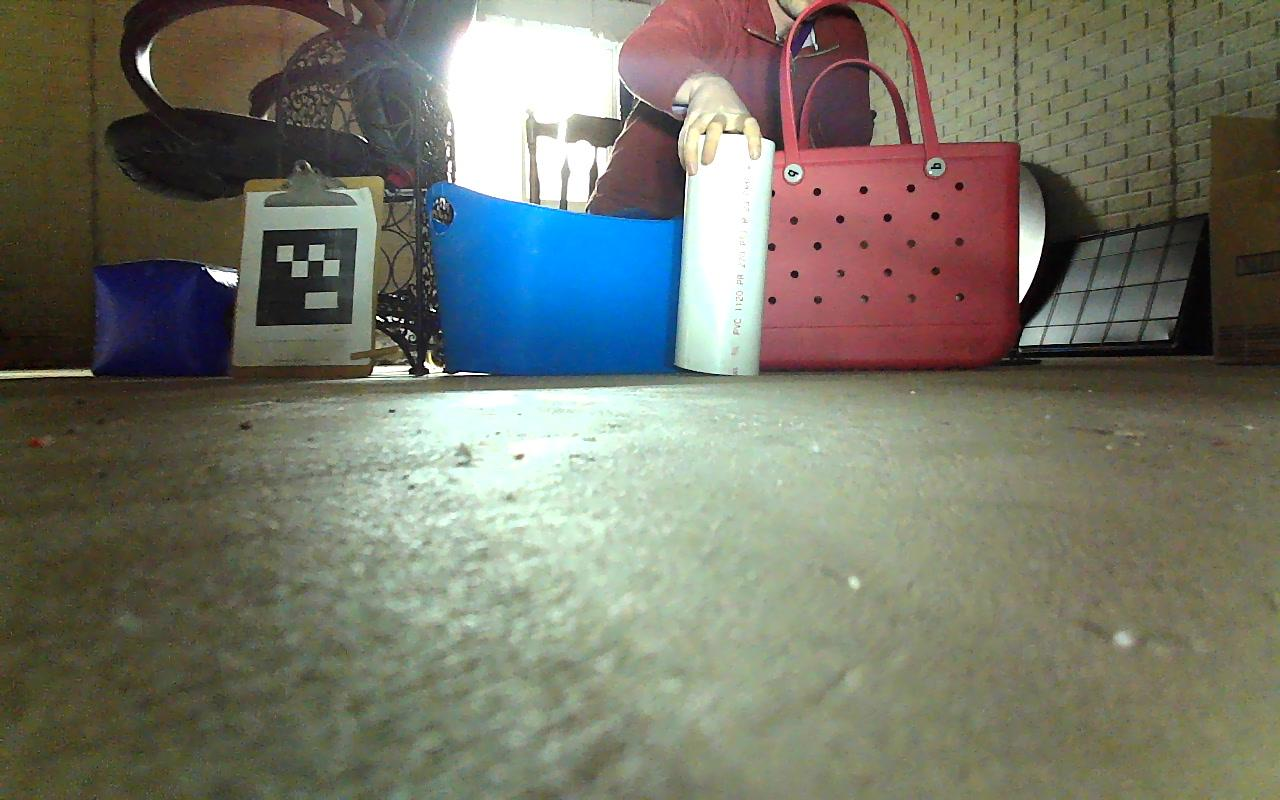coral: (673, 131, 772, 376)
